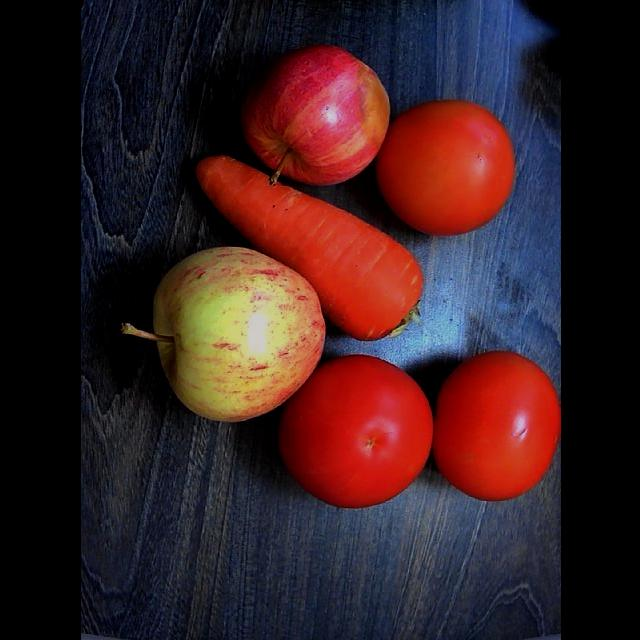manzana: (120, 247, 325, 421), (240, 45, 389, 185)
tomate: (278, 356, 432, 508), (432, 352, 560, 501), (376, 100, 514, 236)
zanahoria: (196, 156, 422, 341)
